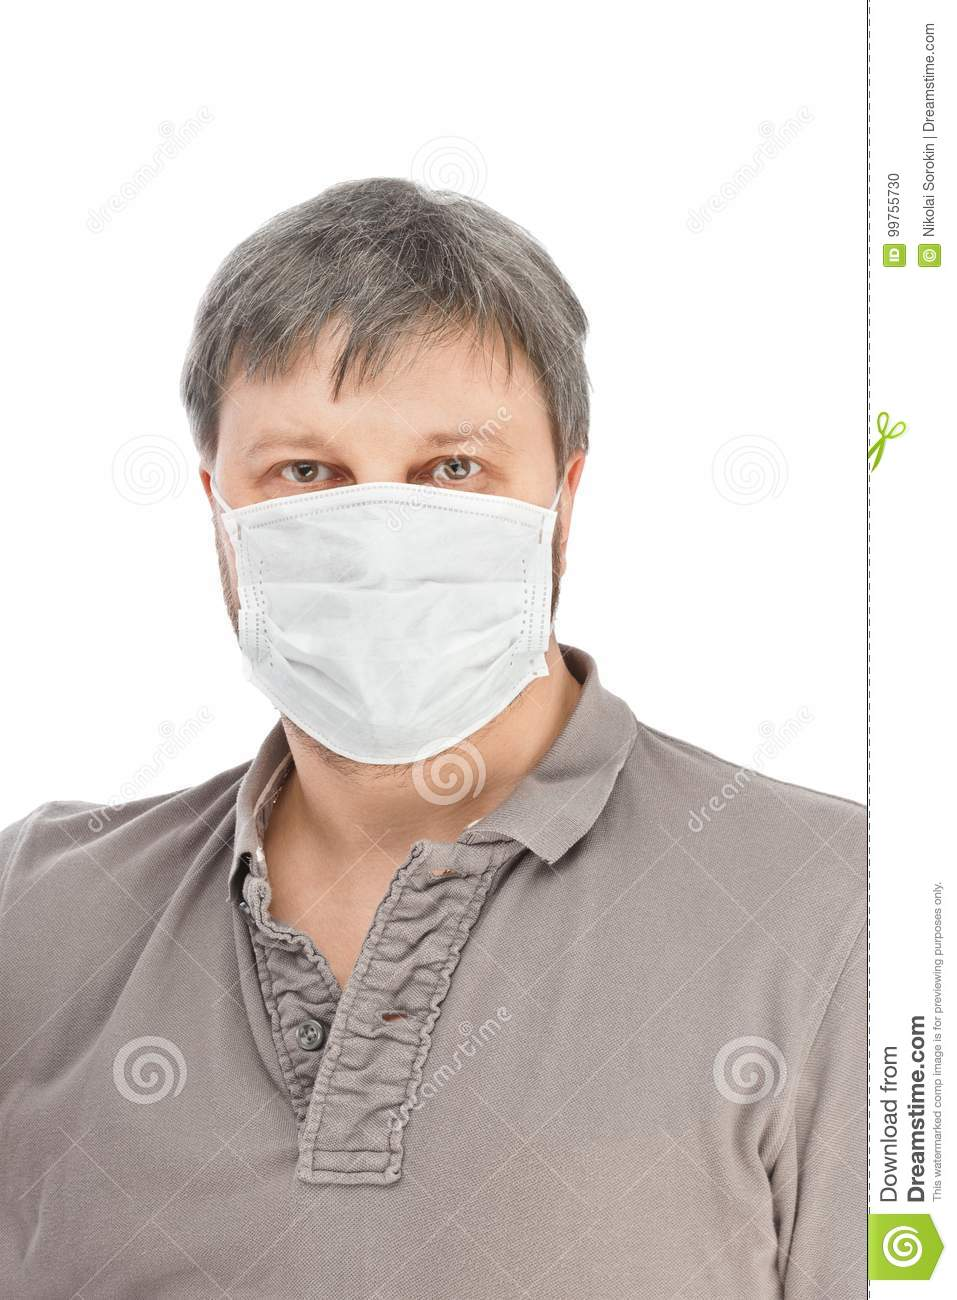mask: (220, 481, 546, 767)
